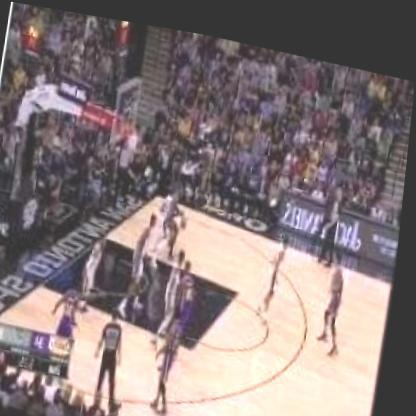basketball: (182, 209, 193, 222)
